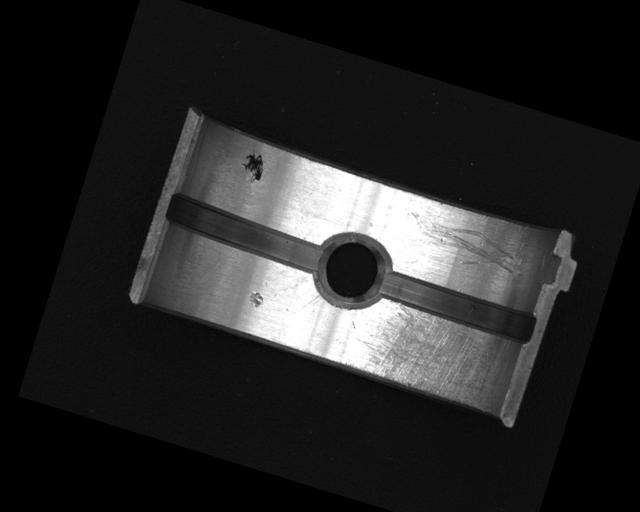blot: (236, 147, 268, 185)
bruise: (245, 289, 266, 311)
gap: (159, 193, 331, 276), (373, 265, 540, 347)
hole: (306, 223, 399, 315)
nick: (397, 207, 522, 280), (290, 287, 321, 321)
scratch: (335, 289, 516, 415)
